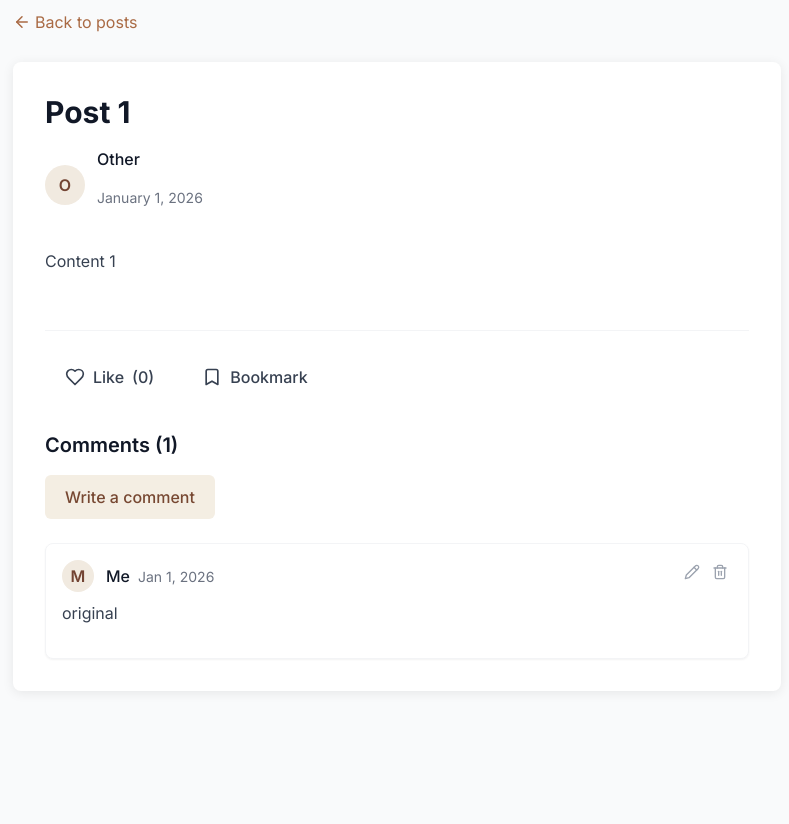
comment editing › works end to end on the post page via PUT
The width and height of the screenshot is (789, 824).
Check: the text "original" is shown, box [62,603,118,623]
Click the button named "Edit comment" at (692, 572), box [680,560,704,584]
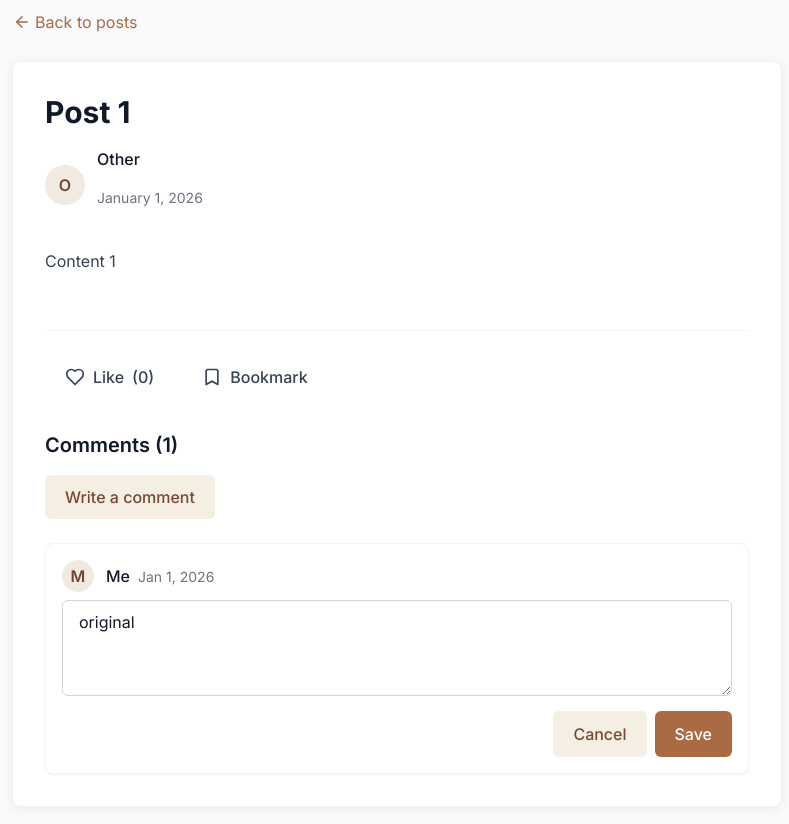
Replace the text in the text box named "Edit your comment" with "better" at (397, 648), box [62,600,732,696]
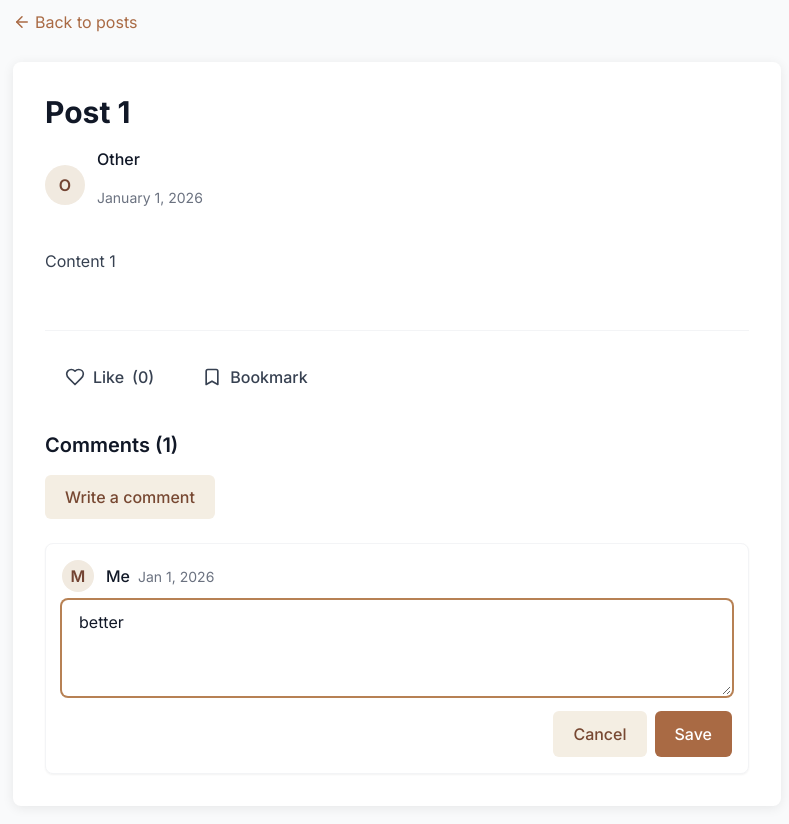
Click the button "Save" at (693, 734), box [654,711,732,757]
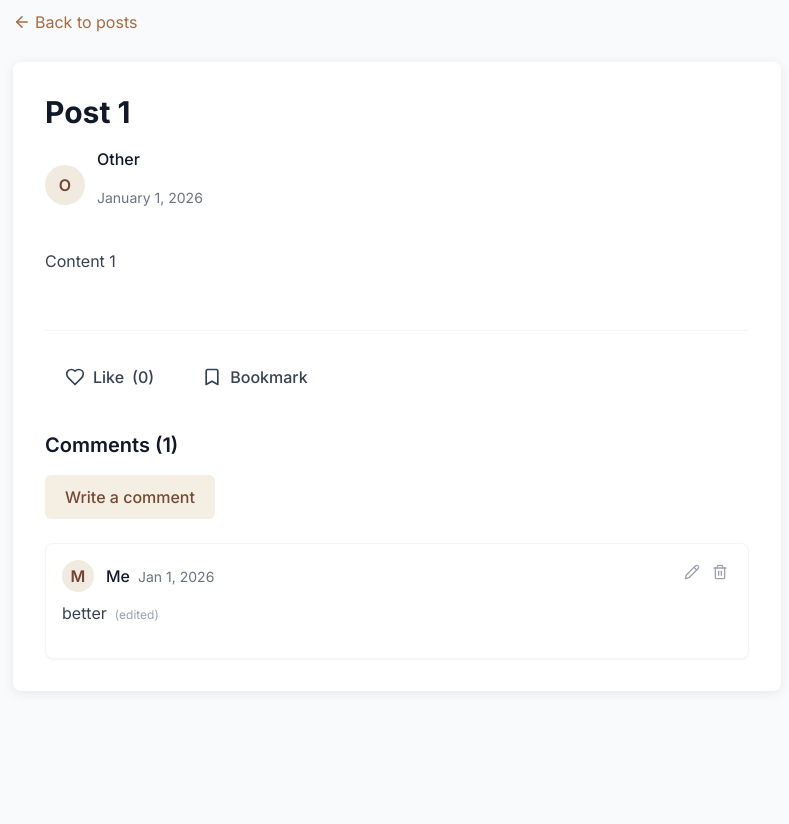
Check: the text "(edited)" is shown, box [115,607,159,622]
Check: the text "better(edited)" is shown, box [62,603,159,623]
